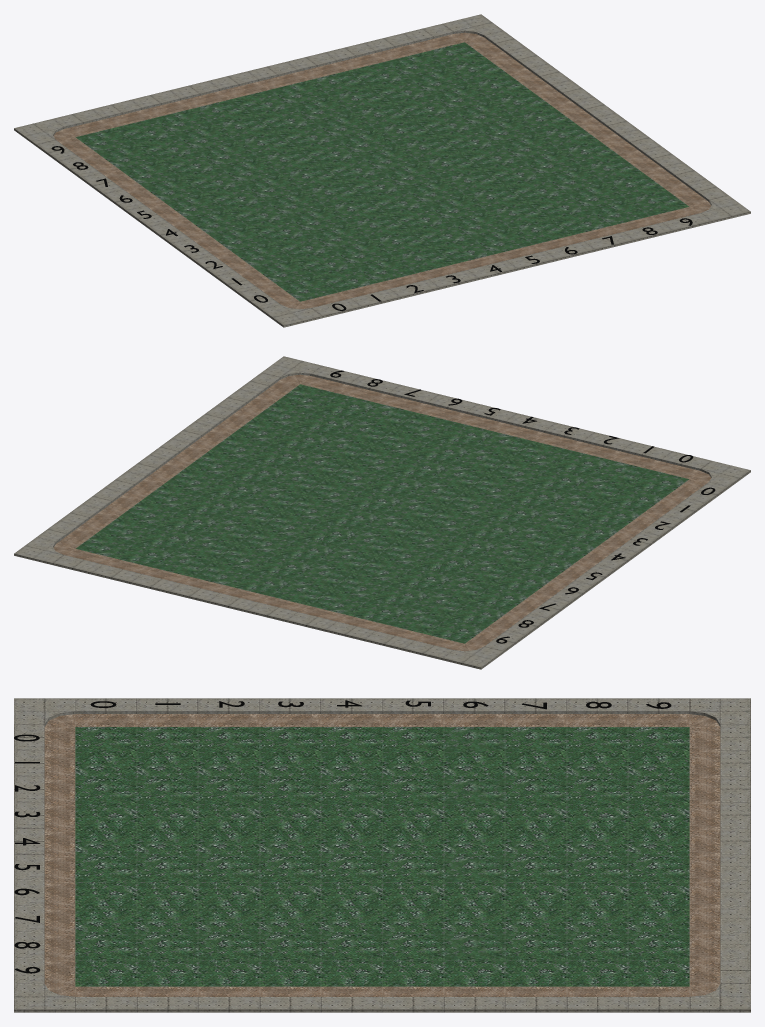
3 views of the same model, one above another, from view 1: azimuth 30°, elevation 25°; view 2: azimuth 150°, elevation 25°; view 3: azimuth 270°, elevation 25° (orthographic). The views are drawn at different scales.
Visible parts, largest first — view 1: roadDirt_side.026, roadDirt_side.025, roadDirt_side.024, roadDirt_side.027, roadDirt_side.022, roadDirt_side.028, roadDirt_side.020, roadDirt_side.021, roadDirt_side.023, roadDirt_side.029, roadDirt_cornerInner.002, roadDirt_cornerInner.001 (+132 smaller); view 2: roadDirt_cornerInner.003, roadDirt_side.033, roadDirt_cornerInner, roadDirt_side.035, roadDirt_cornerInner.002, roadDirt_side.037, roadDirt_cornerInner.001, roadDirt_side.036, roadDirt_side.030, roadDirt_side.032, roadDirt_side.039, roadDirt_side.031 (+132 smaller); view 3: roadDirt_side.018, roadDirt_side.013, roadDirt_side.016, roadDirt_side.015, roadDirt_side.011, roadDirt_side.012, roadDirt_side.010, roadDirt_side.014, roadDirt_side.019, roadDirt_side.017, roadDirt_cornerInner.002, roadDirt_cornerInner.003 (+136 smaller).
Boxes of the visible parts, bbox=[...] form: roadDirt_side.026: bbox=[326, 42, 386, 70]; roadDirt_side.025: bbox=[365, 33, 425, 60]; roadDirt_side.024: bbox=[403, 24, 464, 51]; roadDirt_side.027: bbox=[287, 52, 347, 79]; roadDirt_side.022: bbox=[170, 81, 230, 108]; roadDirt_side.028: bbox=[92, 99, 152, 127]; roadDirt_side.020: bbox=[248, 62, 308, 89]; roadDirt_side.021: bbox=[209, 71, 269, 98]; roadDirt_side.023: bbox=[131, 90, 191, 117]; roadDirt_side.029: bbox=[53, 109, 113, 136]; roadDirt_cornerInner.002: bbox=[261, 302, 322, 327]; roadDirt_cornerInner.001: bbox=[442, 14, 503, 41]; roadDirt_cornerInner.003: bbox=[442, 644, 503, 669]; roadDirt_side.033: bbox=[378, 384, 438, 412]; roadDirt_cornerInner: bbox=[261, 356, 322, 383]; roadDirt_side.035: bbox=[612, 441, 672, 469]; roadDirt_cornerInner.002: bbox=[690, 461, 750, 488]; roadDirt_side.037: bbox=[534, 423, 594, 450]; roadDirt_cornerInner.001: bbox=[14, 537, 74, 564]; roadDirt_side.036: bbox=[573, 432, 633, 459]; roadDirt_side.030: bbox=[495, 413, 555, 440]; roadDirt_side.032: bbox=[417, 394, 477, 421]; roadDirt_side.039: bbox=[300, 366, 361, 393]; roadDirt_side.031: bbox=[456, 404, 516, 431]; roadDirt_side.018: bbox=[137, 698, 198, 726]; roadDirt_side.013: bbox=[198, 698, 259, 726]; roadDirt_side.016: bbox=[505, 698, 566, 726]; roadDirt_side.015: bbox=[566, 698, 628, 726]; roadDirt_side.011: bbox=[321, 698, 382, 726]; roadDirt_side.012: bbox=[259, 698, 320, 726]; roadDirt_side.010: bbox=[382, 698, 443, 726]; roadDirt_side.014: bbox=[628, 698, 689, 726]; roadDirt_side.019: bbox=[75, 698, 136, 726]; roadDirt_side.017: bbox=[444, 698, 505, 726]; roadDirt_cornerInner.002: bbox=[14, 698, 75, 726]; roadDirt_cornerInner.003: bbox=[689, 698, 750, 726].
Size of the model in its own units: 60 by 0.292 by 60.
Materials: 6 (5 with a texture image).
